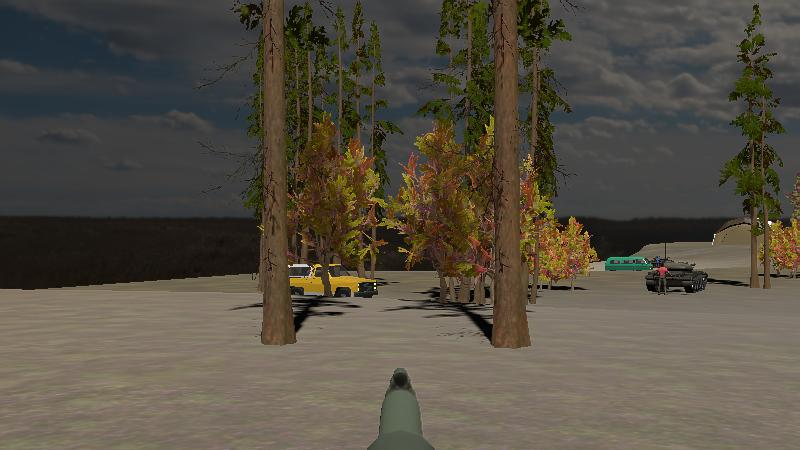Human: (656, 260, 673, 297)
Tank: (646, 257, 710, 295)
car: (272, 262, 380, 301), (279, 262, 332, 300), (604, 256, 652, 274)
